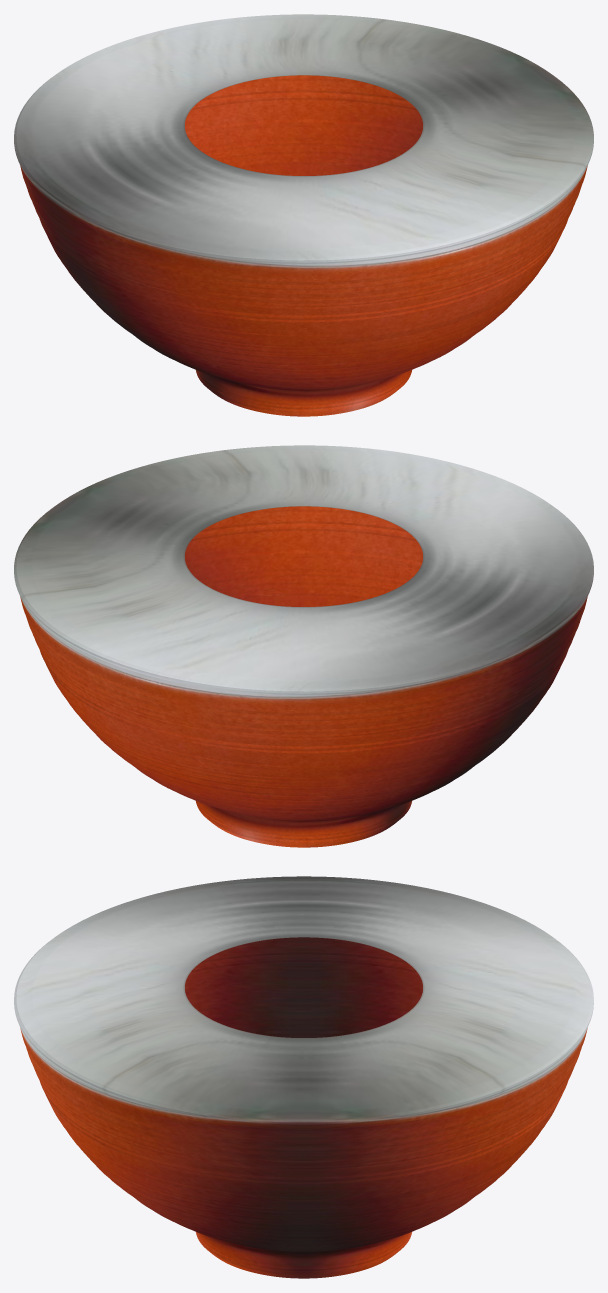
File: cma-120216.glb
3 views of the same model, one above another, from view 1: azimuth 30°, elevation 25°; view 2: azimuth 150°, elevation 25°; view 3: azimuth 270°, elevation 25° (orthographic).
Visible parts, largest first — view 1: geometry_0; view 2: geometry_0; view 3: geometry_0.
Boxes of the visible parts, x1=… form: geometry_0: x1=14, y1=14, x2=593, y2=416; geometry_0: x1=14, y1=445, x2=593, y2=847; geometry_0: x1=14, y1=876, x2=593, y2=1278.
Size of the model in its own units: 61.14 by 30 by 61.14.
1 material, 1 textured.
